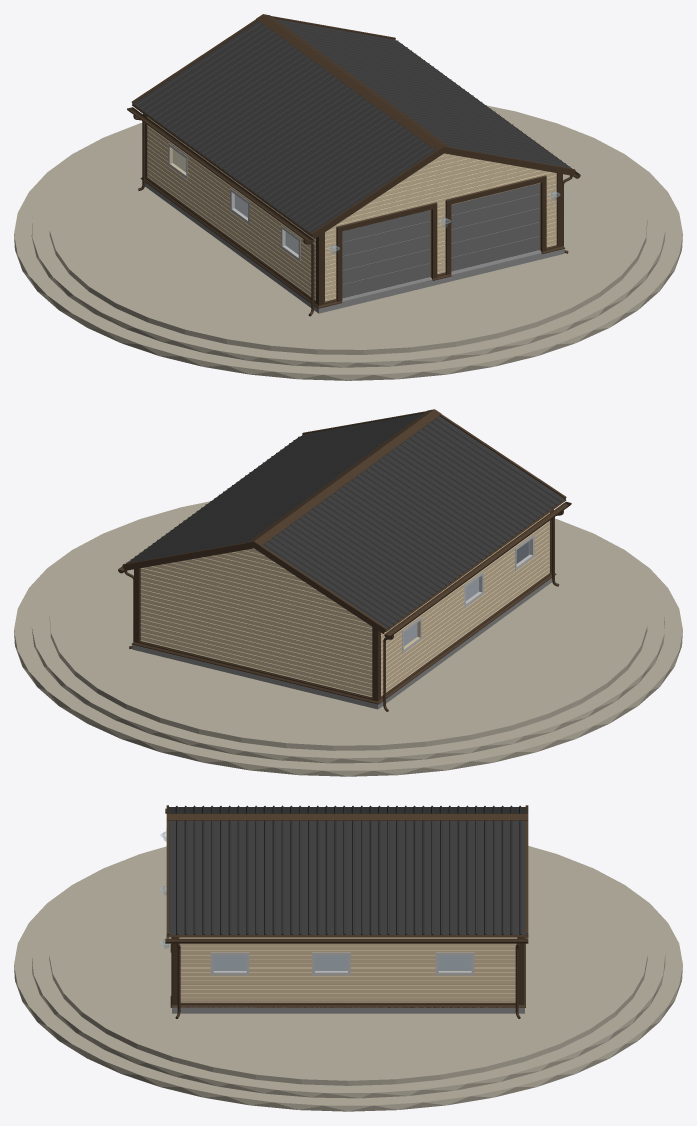
File: garage_8x10.glb
3 views of the same model, one above another, from view 1: azimuth 30°, elevation 25°; view 2: azimuth 150°, elevation 25°; view 3: azimuth 270°, elevation 25° (orthographic).
Parts seen in each view (by area): view 1: ground, roof, walls, trim, gate, foundation, windows, glass; view 2: ground, roof, walls, trim, foundation, windows, glass; view 3: ground, roof, walls, trim, foundation, glass, windows.
Part boxes in pixels (x1,y1,x2,y2): ground: [14, 105, 682, 380]; roof: [132, 18, 570, 234]; walls: [147, 117, 556, 301]; trim: [127, 14, 580, 316]; gate: [342, 183, 539, 298]; foundation: [145, 170, 564, 313]; windows: [168, 143, 300, 261]; glass: [173, 149, 559, 254]; ground: [14, 501, 682, 776]; roof: [126, 413, 565, 630]; walls: [140, 512, 549, 697]; trim: [118, 409, 571, 711]; foundation: [132, 578, 552, 709]; windows: [402, 534, 534, 653]; glass: [404, 541, 529, 646]; ground: [14, 846, 682, 1111]; roof: [167, 805, 527, 935]; walls: [179, 937, 517, 1002]; trim: [165, 805, 528, 1018]; foundation: [172, 955, 524, 1013]; glass: [160, 831, 471, 970]; windows: [210, 952, 474, 975].
Size of the model in its own units: 19 by 4.97 by 19.
